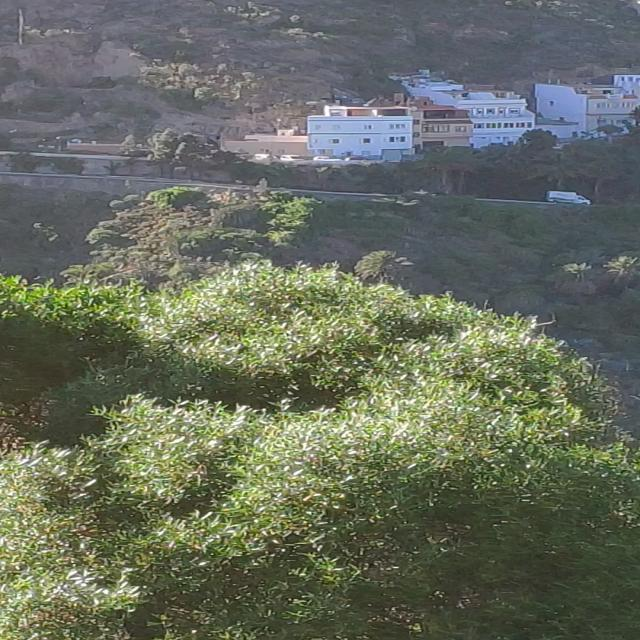Palm-Trees: (347, 249, 416, 283)
